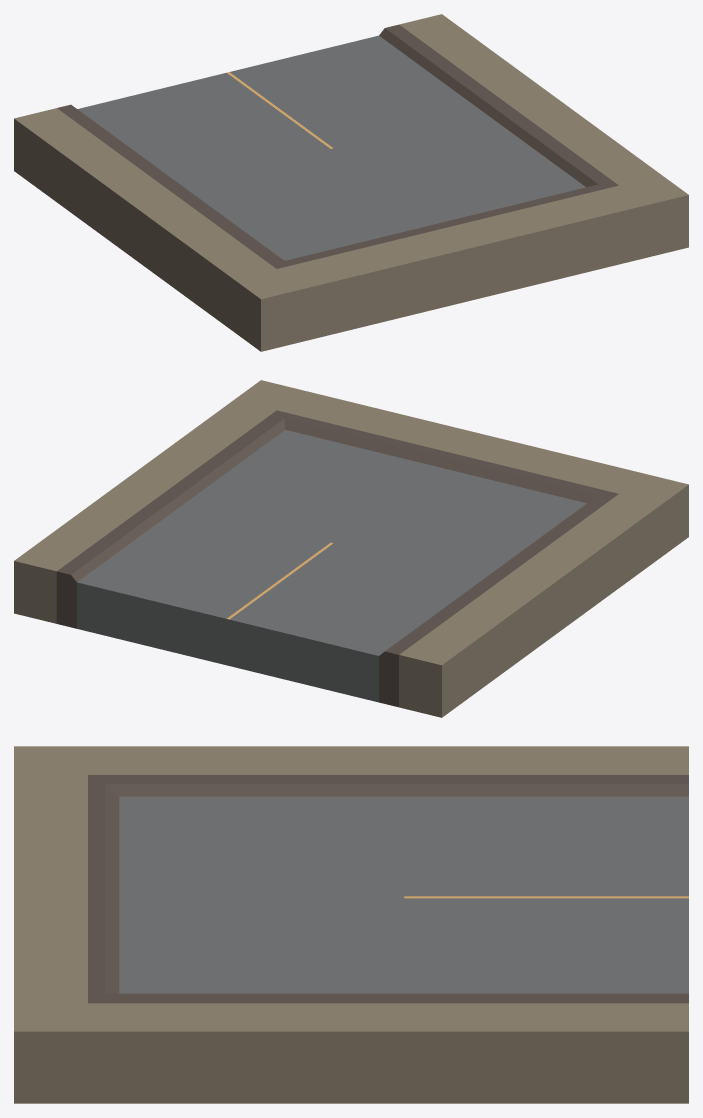
File: Rua Sem Saida.fbx
3 views of the same model, one above another, from view 1: azimuth 30°, elevation 25°; view 2: azimuth 150°, elevation 25°; view 3: azimuth 270°, elevation 25° (orthographic). The views are drawn at different scales.
Parts seen in each view (by area): view 1: Rua Sem Saída; view 2: Rua Sem Saída; view 3: Rua Sem Saída.
Part boxes in pixels (<box>): Rua Sem Saída: <box>14,14,688,351</box>; Rua Sem Saída: <box>14,380,688,717</box>; Rua Sem Saída: <box>14,746,688,1103</box>.
Bounding box in the file's own units: 200 × 23.48 × 200.
